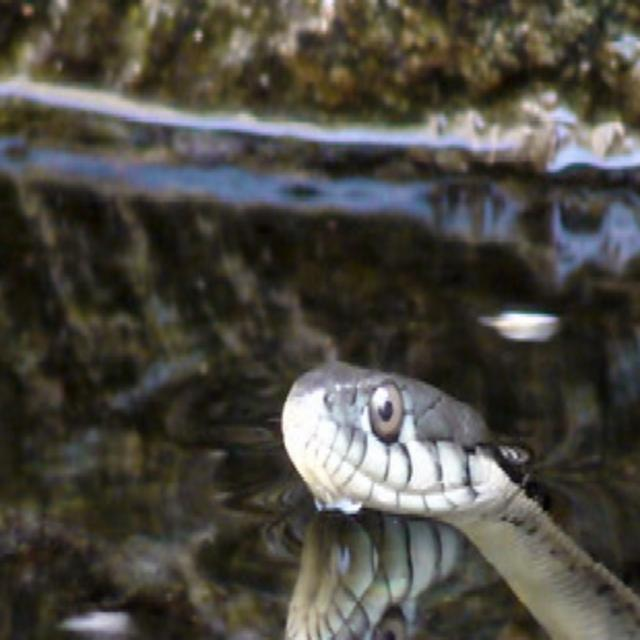Snake: (274, 347, 640, 640)
